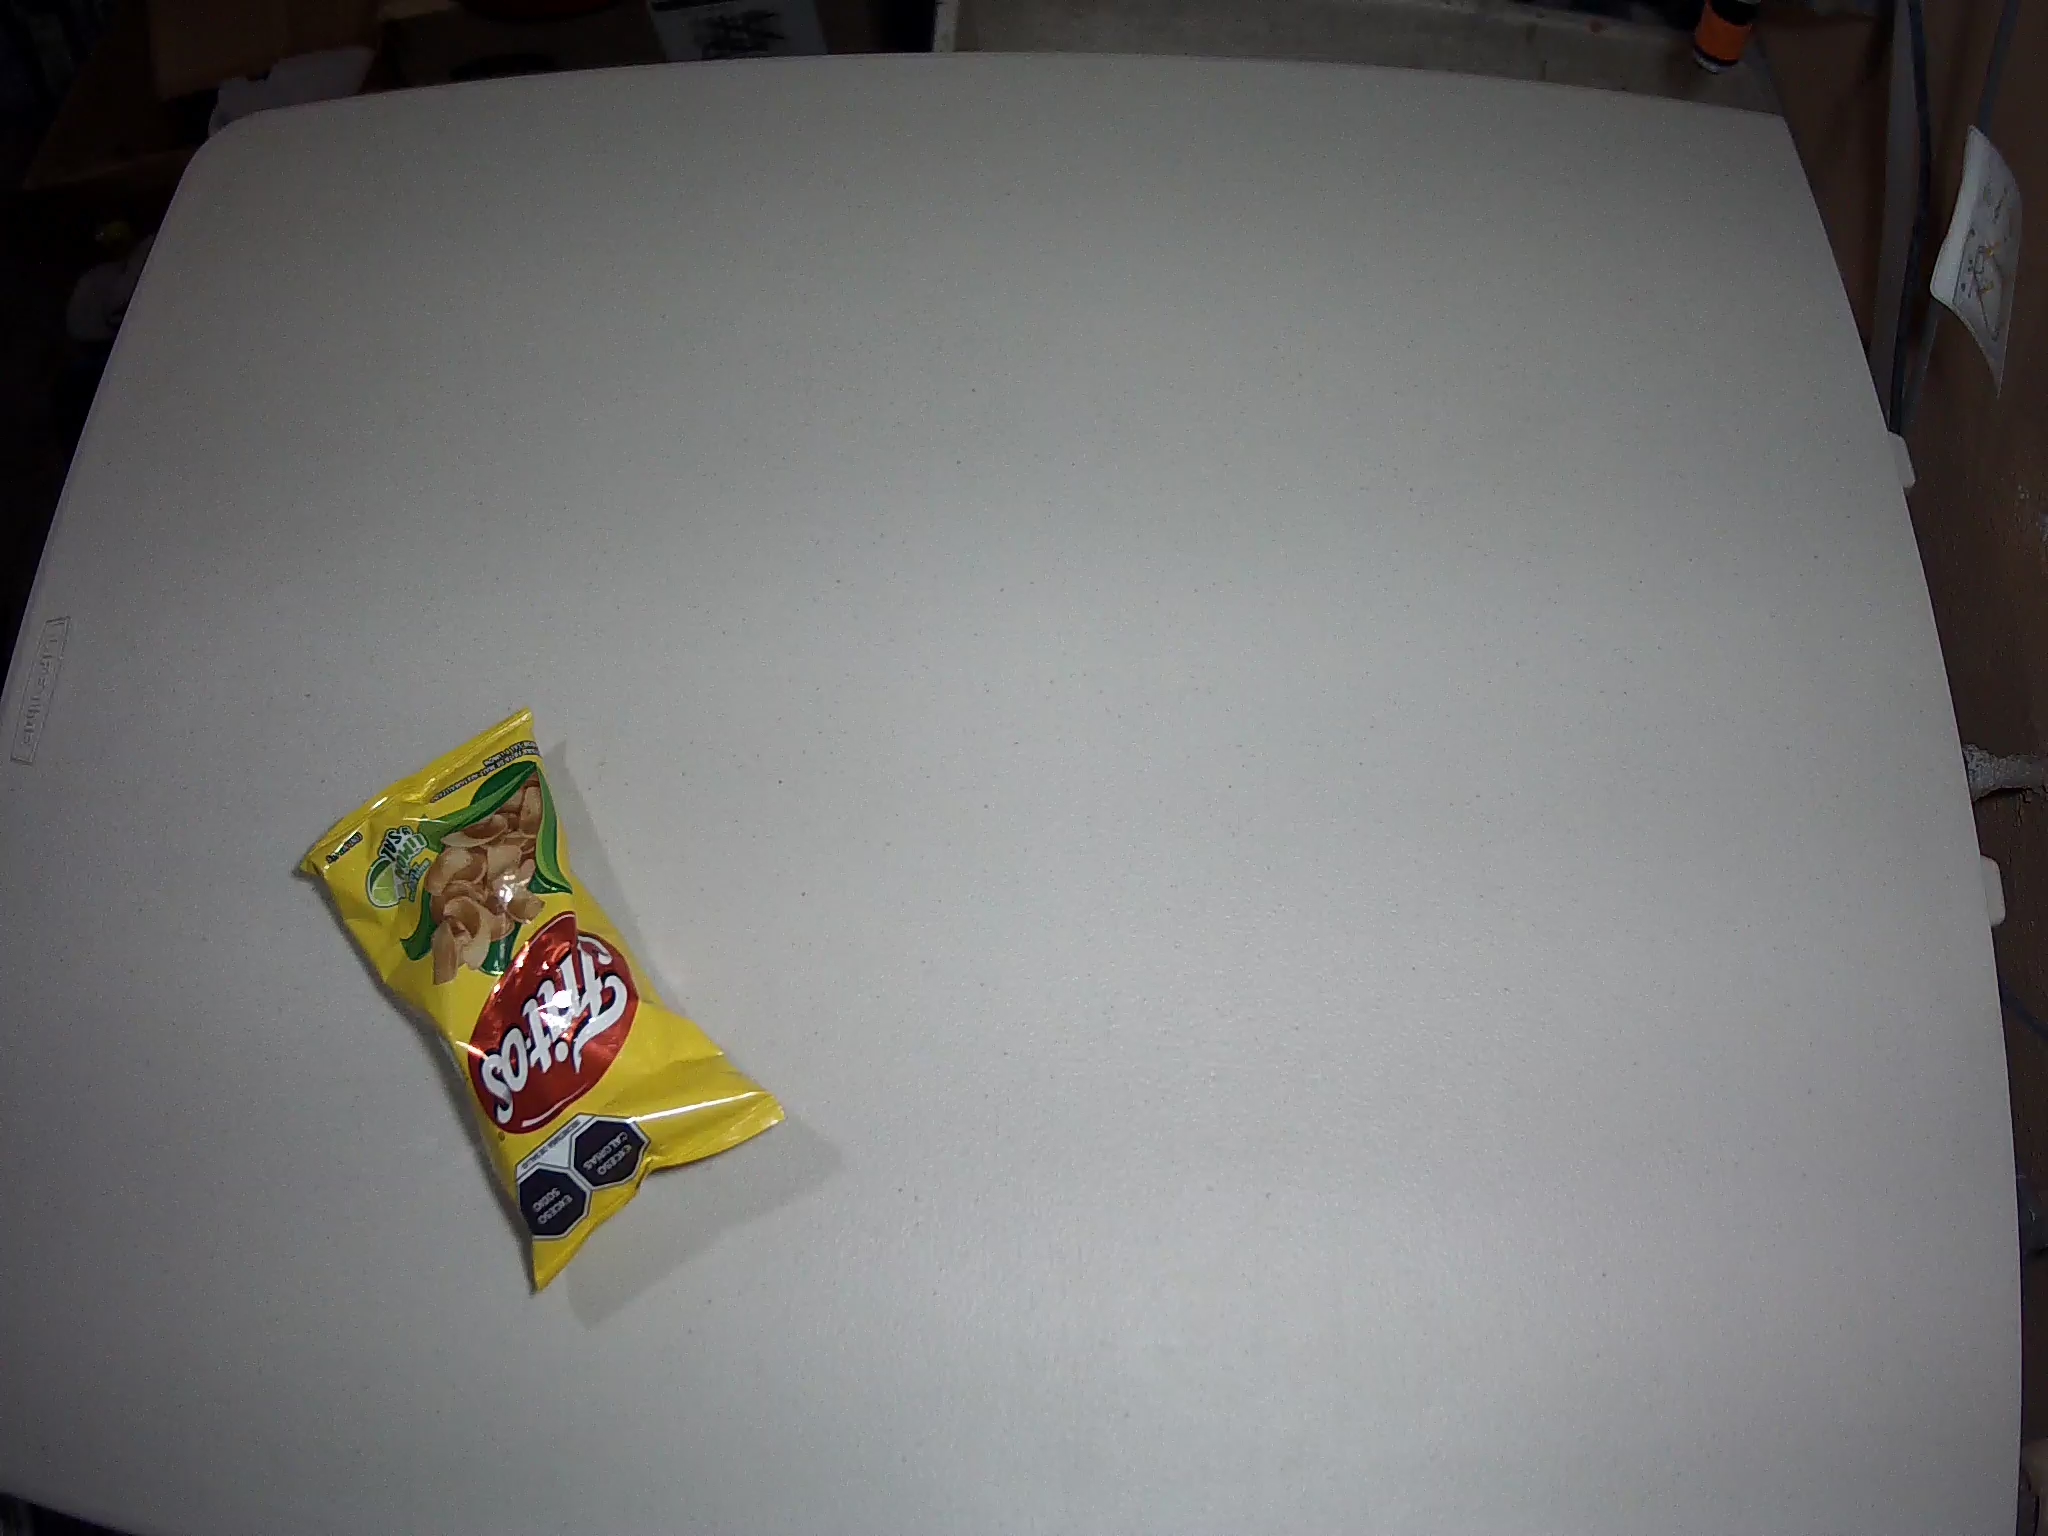FritosSalLimon_65_F: (297, 707, 784, 1292)
